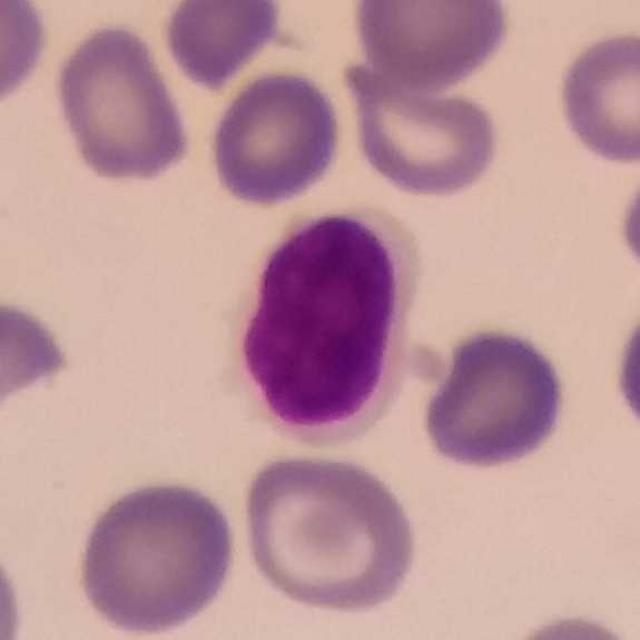Lymphocyte: (196, 198, 438, 445)
RBC: (235, 446, 422, 619), (71, 473, 242, 639), (338, 56, 506, 202), (49, 19, 195, 186), (415, 321, 573, 474), (204, 66, 347, 209), (346, 0, 516, 93), (552, 26, 640, 168), (158, 0, 287, 90), (0, 289, 78, 432), (0, 0, 53, 111), (606, 284, 640, 448), (490, 606, 639, 640), (614, 158, 640, 281), (614, 160, 640, 282), (0, 531, 29, 640)
